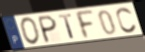0: (97, 9, 119, 36)
C: (116, 7, 138, 35)
F: (73, 10, 96, 40)
O: (19, 16, 41, 46)
P: (37, 13, 58, 44)
T: (57, 13, 76, 40)
